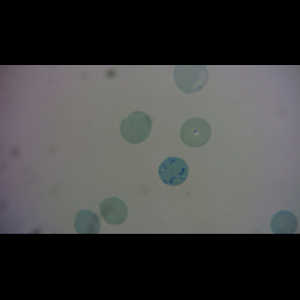aggregate reticulocyte: (158, 156, 190, 187)
erythrocyte: (179, 116, 213, 148), (98, 196, 129, 226), (73, 208, 101, 235), (270, 209, 299, 234)
punctate reticulocyte: (171, 64, 210, 95), (120, 111, 152, 144)
